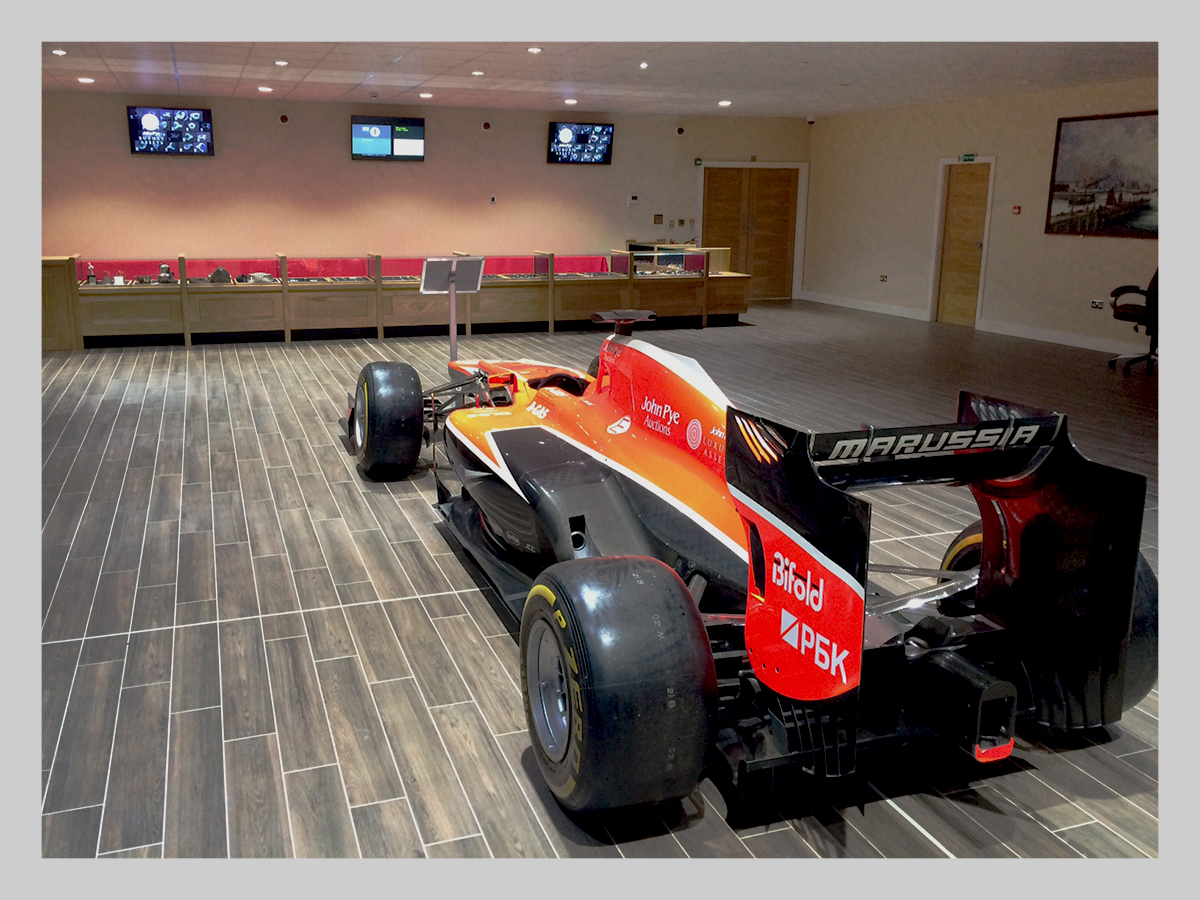f1_car: (335, 318, 1153, 843)
